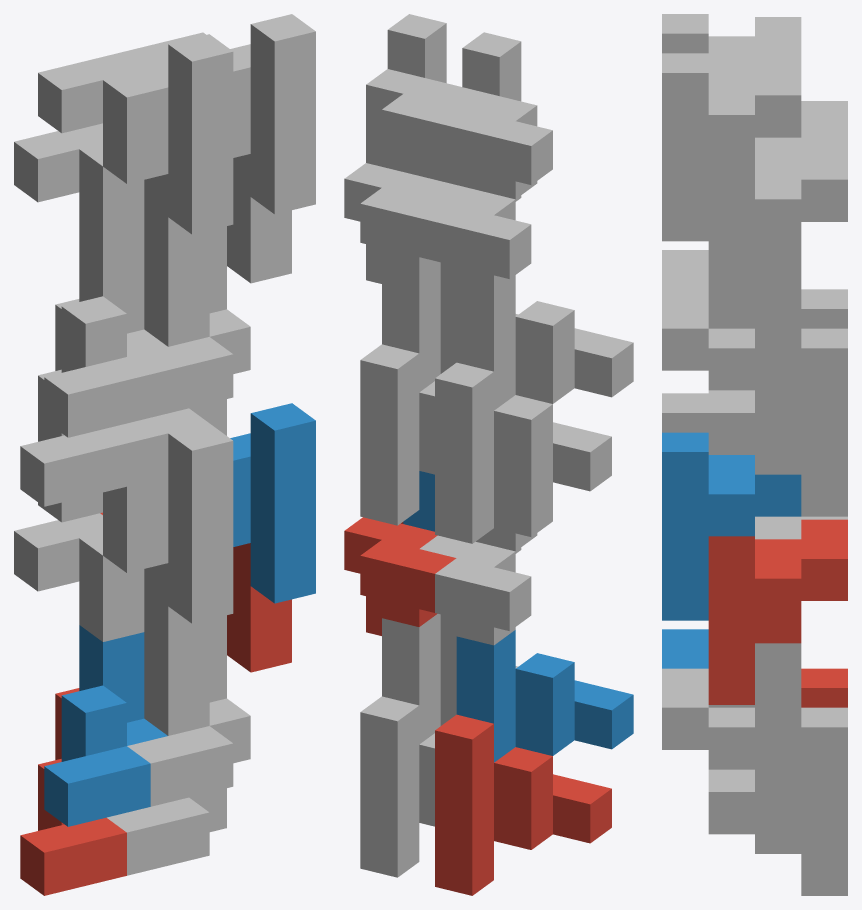
Rendered from tiling.obj.
3 views of the same model, side by side, from view 1: azimuth 30°, elevation 25°; view 2: azimuth 150°, elevation 25°; view 3: azimuth 270°, elevation 25° (orthographic). The views are drawn at different scales.
Parts seen in each view (by area): view 1: copy_2_domain_4, copy_2_domain_2, copy_1_domain_2, copy_1_domain_4, copy_2_domain_1, copy_2_domain_3, copy_2_domain_8, copy_2_domain_6, copy_1_domain_6, copy_1_domain_8, copy_1_domain_3, copy_1_domain_1 (+4 smaller); view 2: copy_1_domain_1, copy_1_domain_3, copy_1_domain_2, copy_1_domain_4, copy_2_domain_4, copy_1_domain_7, copy_1_domain_5, copy_2_domain_8, copy_2_domain_7, copy_2_domain_3, copy_2_domain_1, copy_2_domain_5 (+4 smaller); view 3: copy_2_domain_5, copy_2_domain_7, copy_2_domain_8, copy_1_domain_8, copy_1_domain_6, copy_2_domain_6, copy_1_domain_5, copy_1_domain_7, copy_2_domain_4, copy_2_domain_3, copy_1_domain_1, copy_1_domain_2 (+4 smaller).
Boxes of the visible parts, x1,y1,x2,y2 form: copy_2_domain_4: [38, 34, 233, 234]; copy_2_domain_2: [38, 423, 233, 623]; copy_1_domain_2: [44, 625, 167, 826]; copy_1_domain_4: [44, 236, 167, 437]; copy_2_domain_1: [14, 513, 209, 692]; copy_2_domain_3: [14, 124, 209, 303]; copy_2_domain_8: [121, 14, 315, 214]; copy_2_domain_6: [230, 403, 315, 603]; copy_1_domain_6: [127, 615, 250, 806]; copy_1_domain_8: [127, 226, 250, 417]; copy_1_domain_3: [20, 299, 126, 506]; copy_1_domain_1: [20, 688, 126, 895]; copy_1_domain_1: [435, 714, 611, 895]; copy_1_domain_3: [435, 362, 611, 543]; copy_1_domain_2: [456, 630, 633, 762]; copy_1_domain_4: [456, 278, 633, 410]; copy_2_domain_4: [441, 32, 552, 201]; copy_1_domain_7: [360, 344, 434, 525]; copy_1_domain_5: [360, 696, 434, 877]; copy_2_domain_8: [366, 14, 477, 180]; copy_2_domain_7: [344, 124, 456, 283]; copy_2_domain_3: [419, 163, 531, 302]; copy_2_domain_1: [420, 535, 531, 654]; copy_2_domain_5: [344, 517, 456, 635]; copy_2_domain_5: [708, 519, 847, 704]; copy_2_domain_7: [708, 140, 847, 325]; copy_2_domain_8: [662, 53, 801, 241]; copy_1_domain_8: [662, 264, 801, 432]; copy_1_domain_6: [662, 643, 801, 811]; copy_2_domain_6: [662, 432, 801, 620]; copy_1_domain_5: [708, 707, 847, 895]; copy_1_domain_7: [708, 328, 847, 516]; copy_2_domain_4: [662, 14, 801, 75]; copy_2_domain_3: [755, 101, 847, 159]; copy_1_domain_1: [801, 668, 847, 707]; copy_1_domain_2: [662, 629, 708, 668].
Size of the model in its own units: 6 by 20 by 4.
